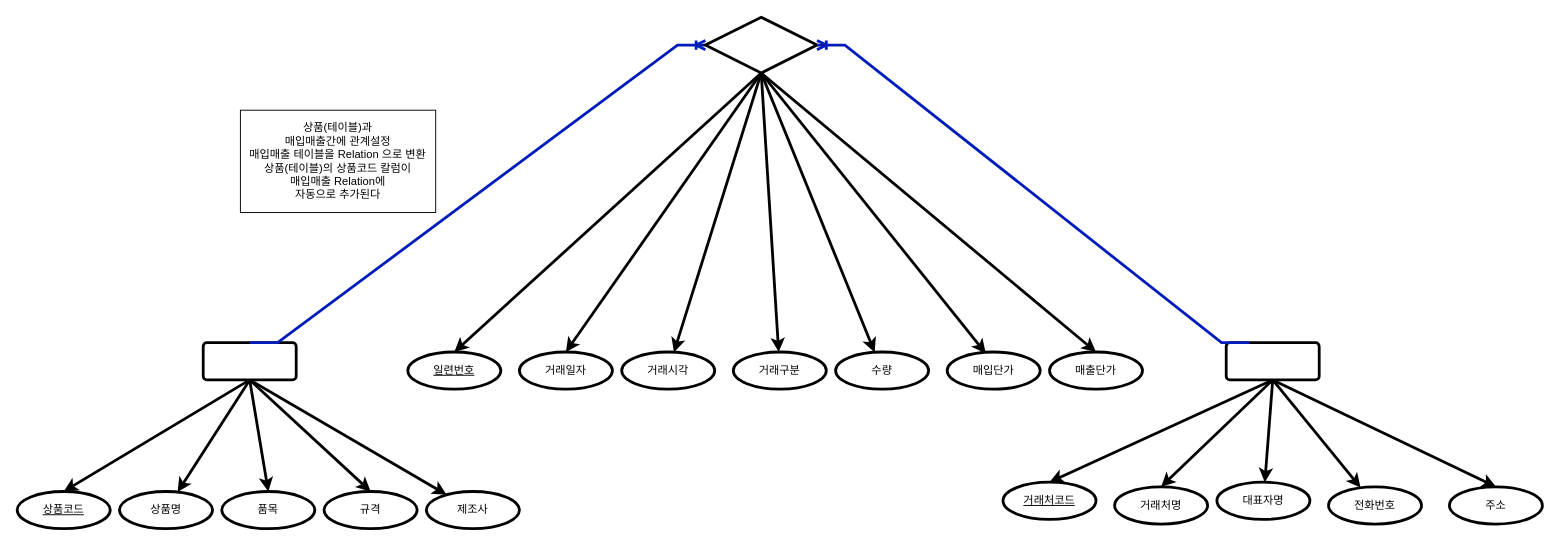
The diagram is 1560 pixels wide and 546 high, and some of its shapes have lost their labels. Each missing label, with the centre of its shape:
"거래처" goes at pixel 1272 361.
"매입매출" goes at pixel 761 44.
"상품" goes at pixel 249 361.
